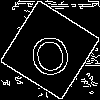O: (25, 25, 74, 79)
